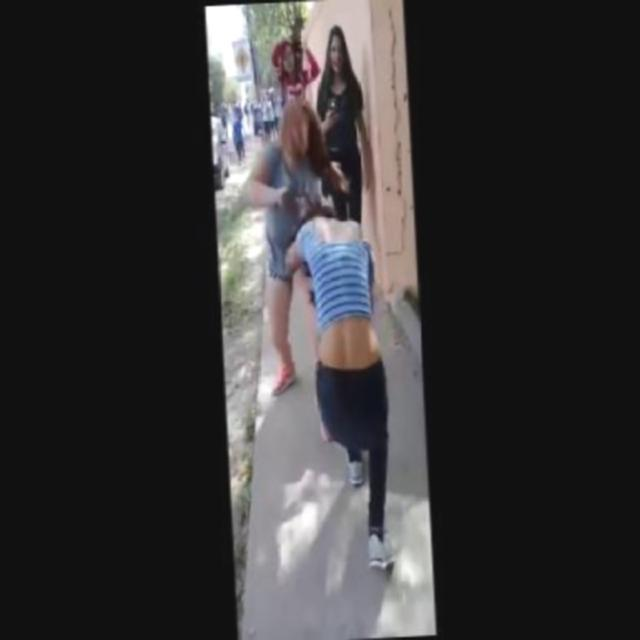fight: (240, 92, 398, 576)
